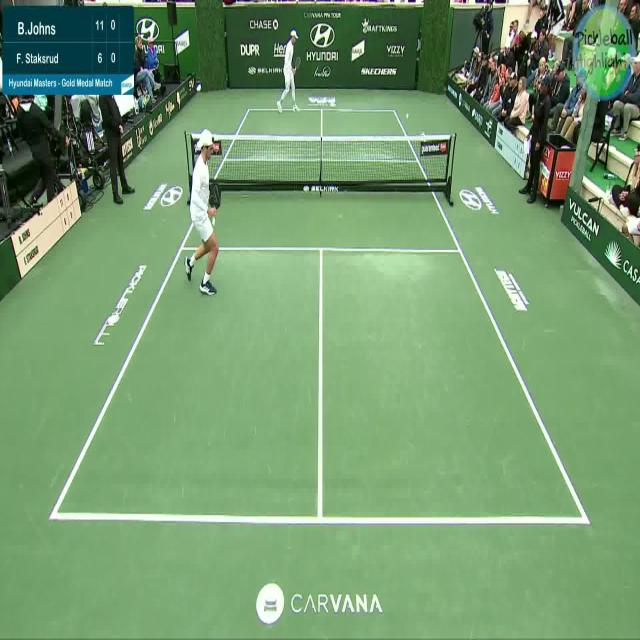Court: (54, 110, 587, 519)
ball: (402, 105, 417, 132)
